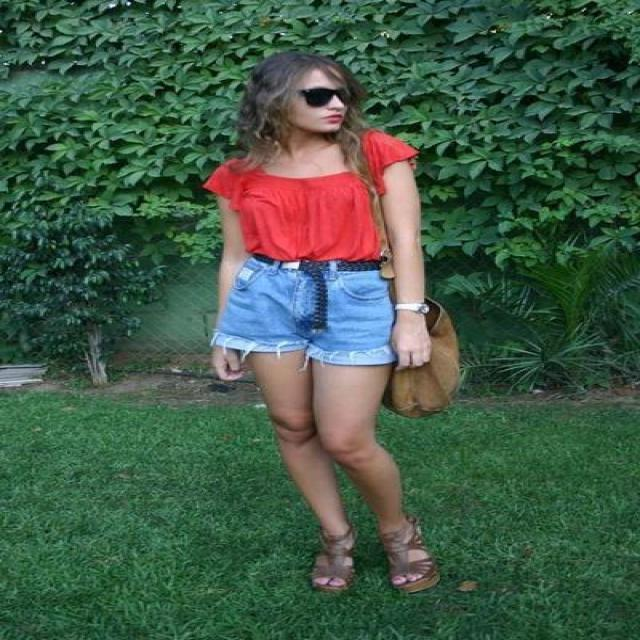shirt: (211, 129, 418, 260)
shoe: (312, 547, 437, 591)
shorts: (213, 243, 400, 366)
sunglass: (301, 89, 358, 114)
